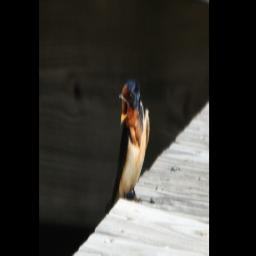Swallow: (113, 75, 151, 202)
